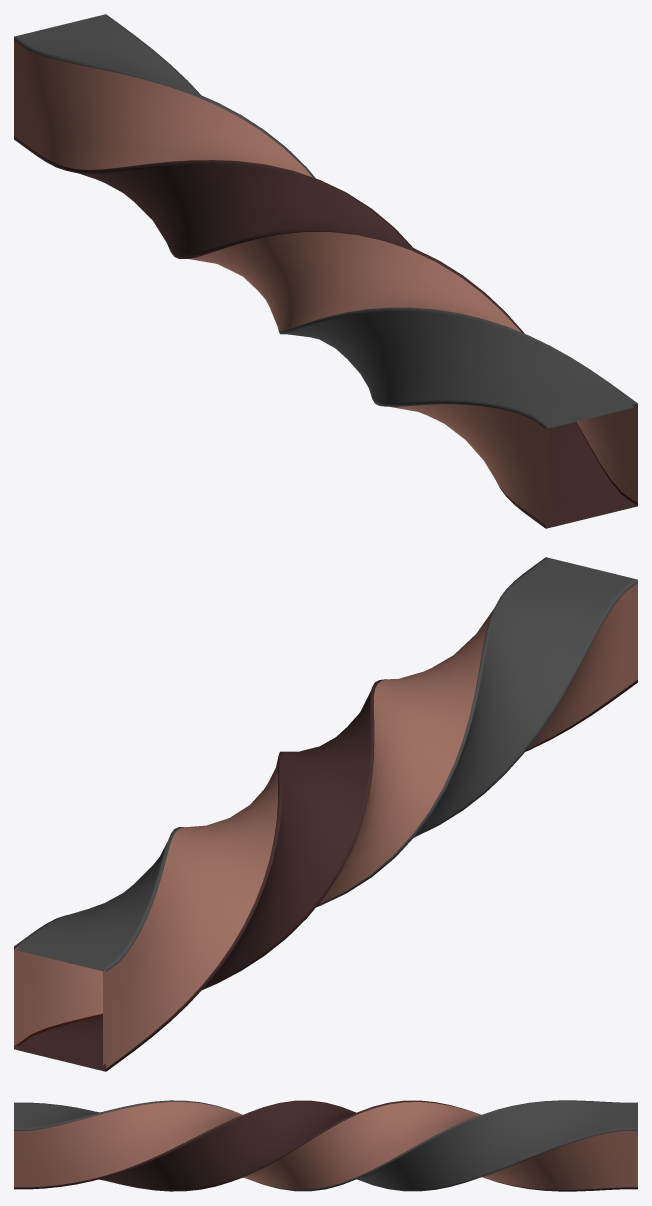
Rendered from CouloirTwist360.fbx.
The picture shows the model from 3 angles, top to bottom: view 1: azimuth 30°, elevation 25°; view 2: azimuth 150°, elevation 25°; view 3: azimuth 270°, elevation 25°; orthographic projection. The views are drawn at different scales.
Visible parts, largest first — view 1: CouloirTwist360; view 2: CouloirTwist360; view 3: CouloirTwist360.
Boxes of the visible parts, bbox=[...] form: CouloirTwist360: bbox=[14, 14, 637, 528]; CouloirTwist360: bbox=[14, 557, 637, 1071]; CouloirTwist360: bbox=[14, 1100, 637, 1191].
Size of the model in its own units: 585 by 584 by 4000.
